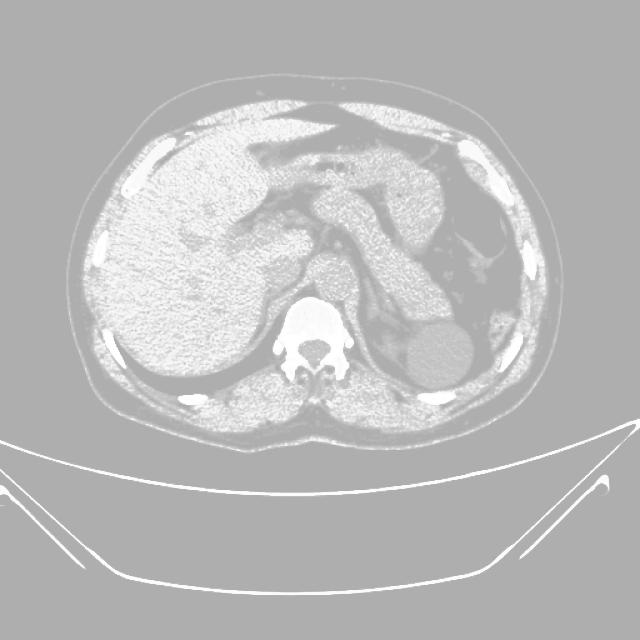cysts: (64, 79, 564, 455)
